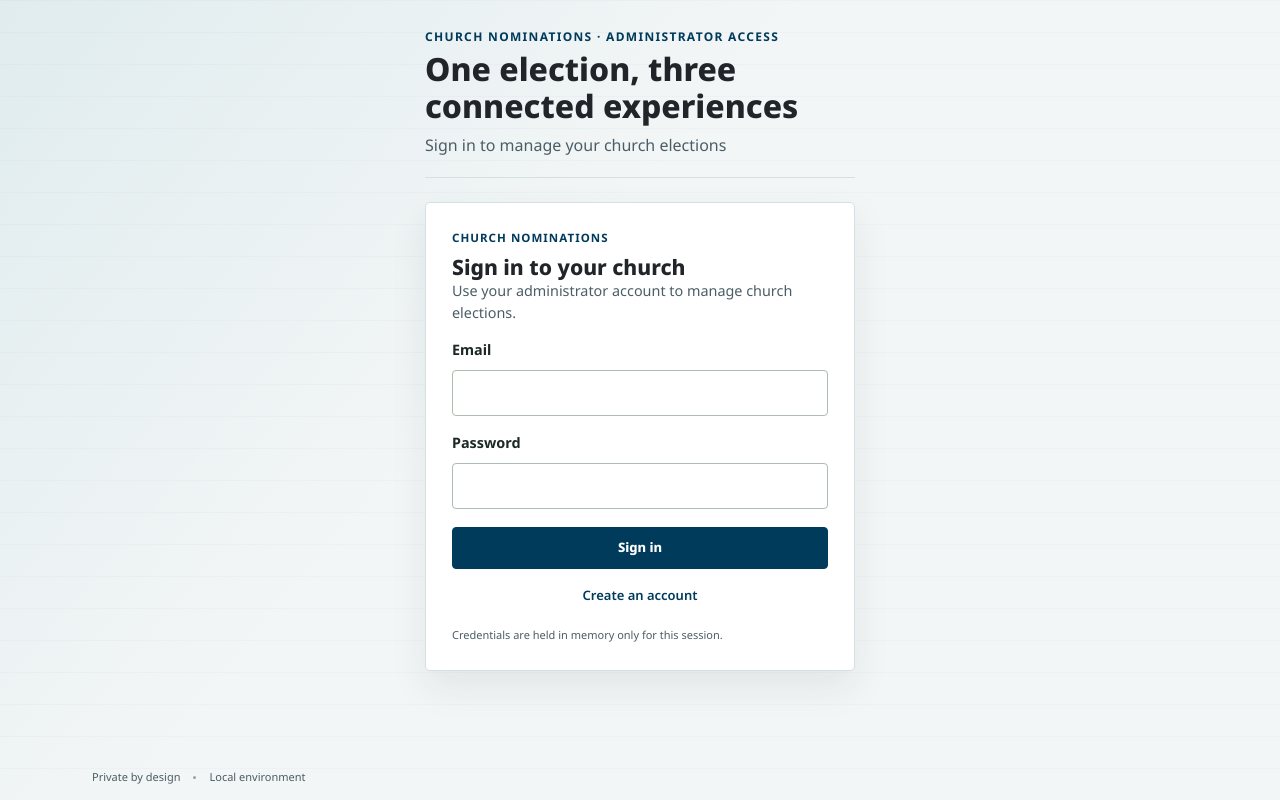
election administration › shows the guided position workflow with the current task before intake setup
Type "admin@example.com" into the field labelled "Email" at point(640, 393), box x1=452 y1=370 x2=828 y2=416
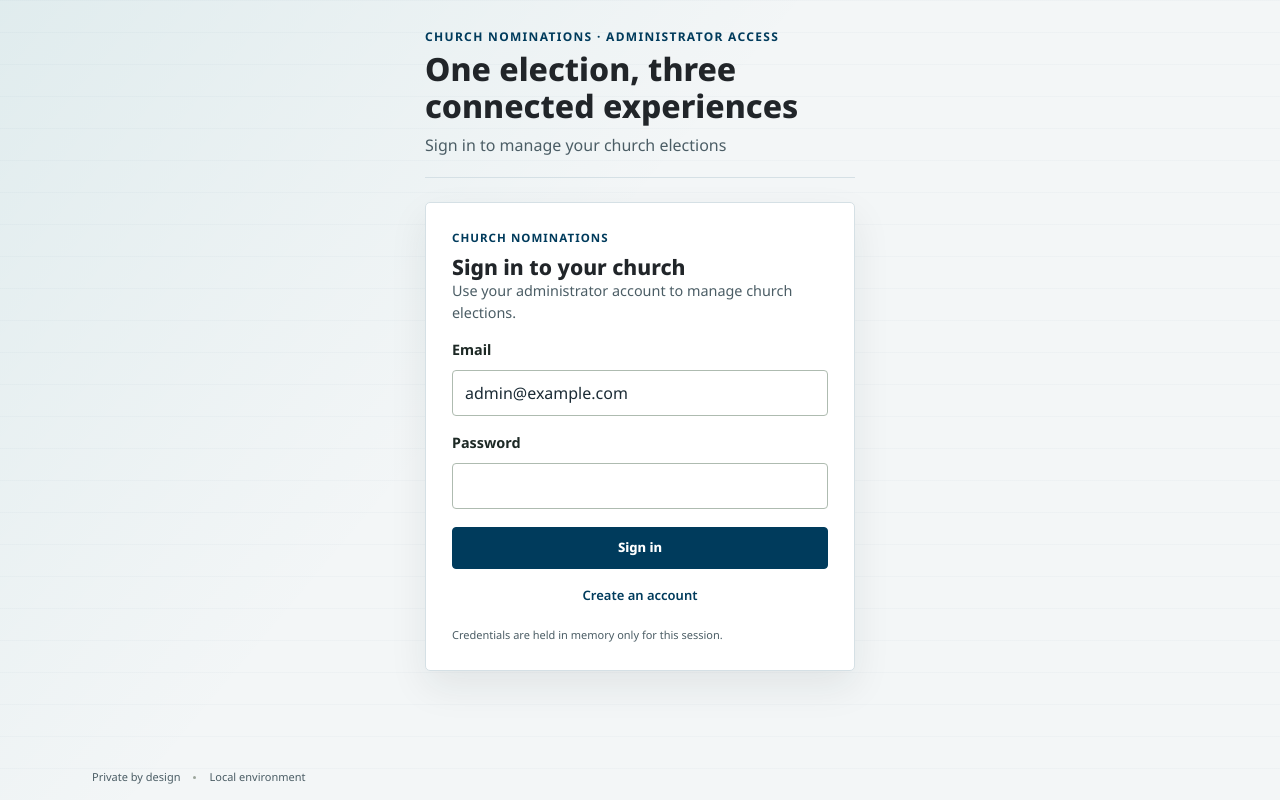
Type "secret" into the password field labelled "Password" at point(640, 486), box x1=452 y1=463 x2=828 y2=509
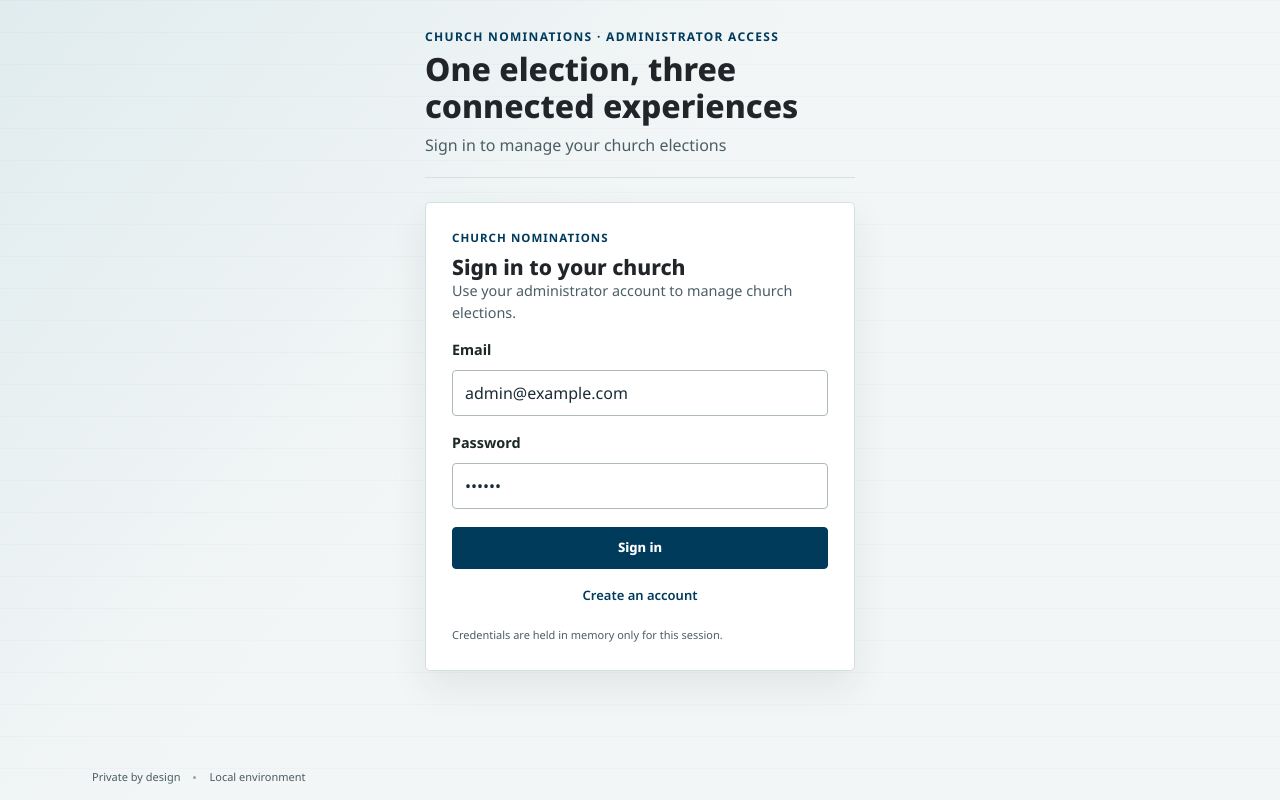
Click the button "Sign in" at point(640, 548), box x1=452 y1=527 x2=828 y2=569
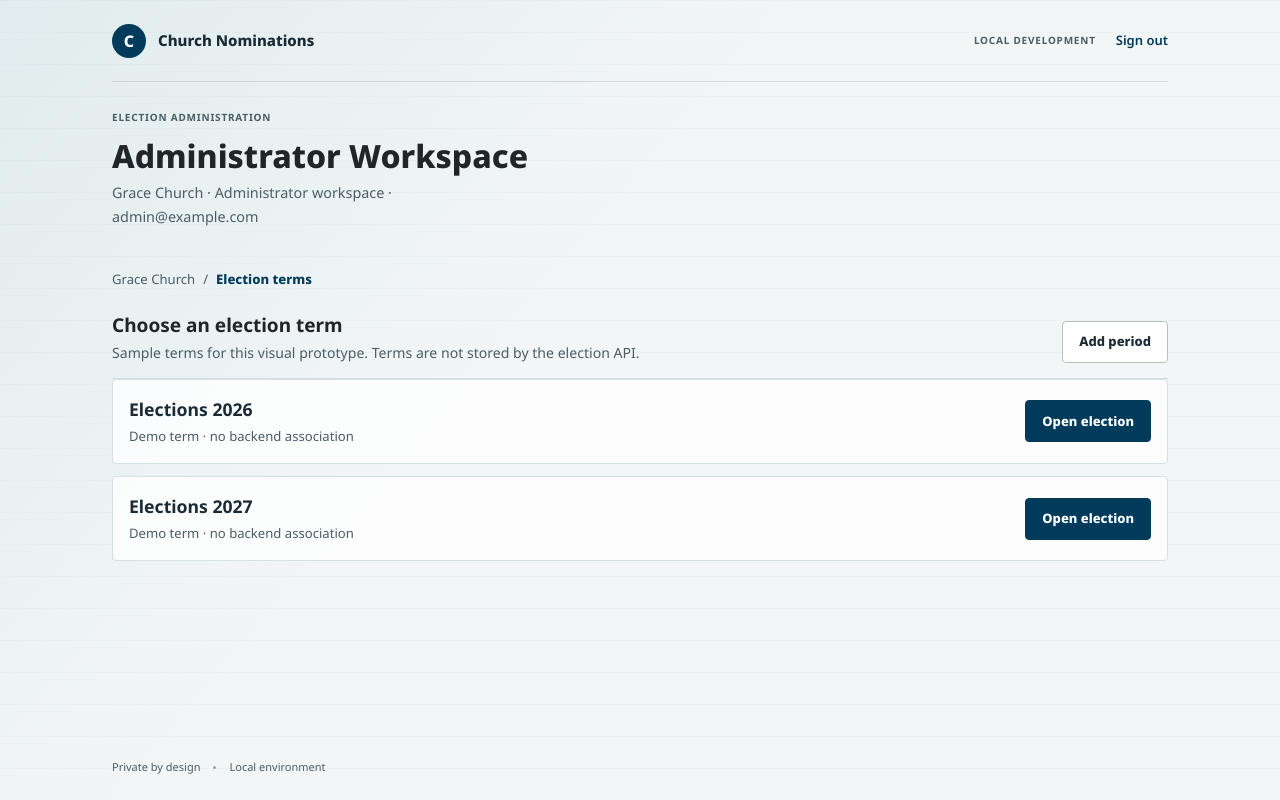
Click the button "Open election" in the row of "Elections 2026" at point(1088, 422), box x1=1025 y1=400 x2=1151 y2=442
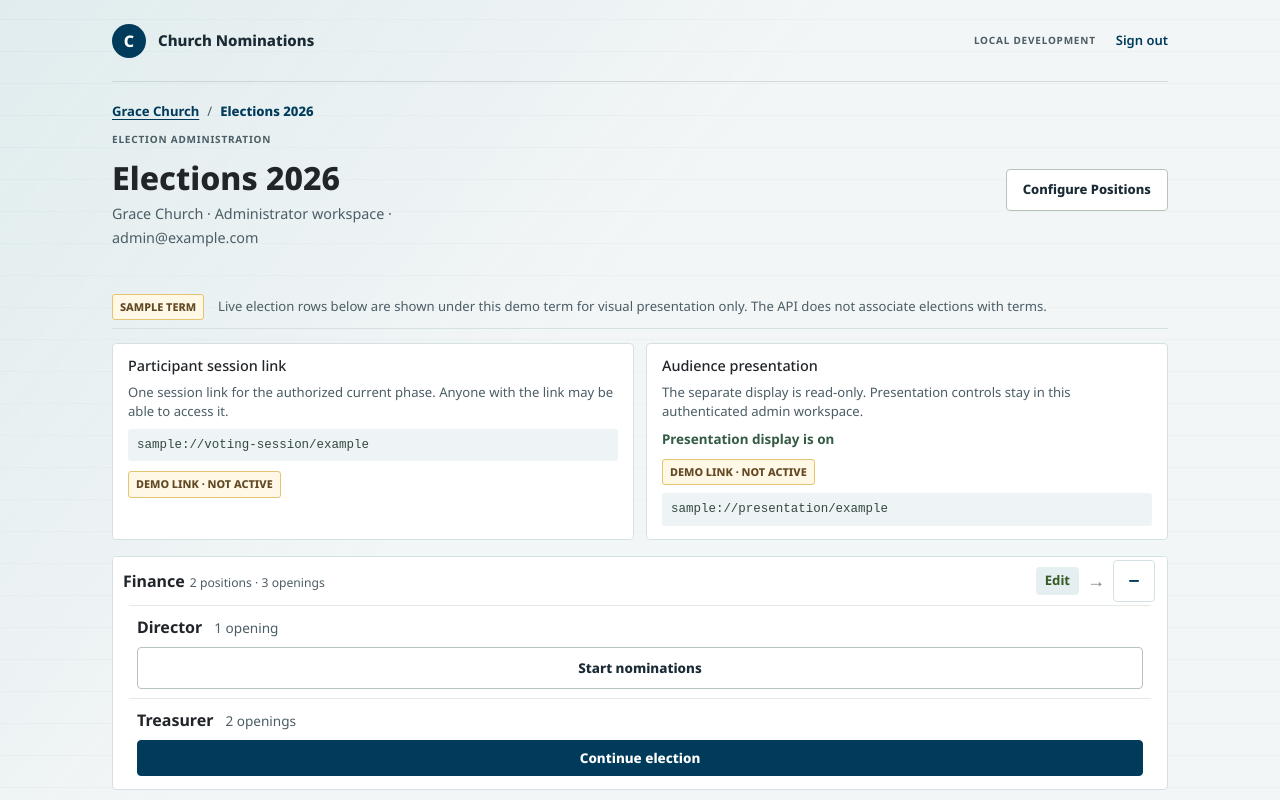
Click the button with aria-label "Start nominations: Director" at point(640, 668), box x1=137 y1=647 x2=1143 y2=689
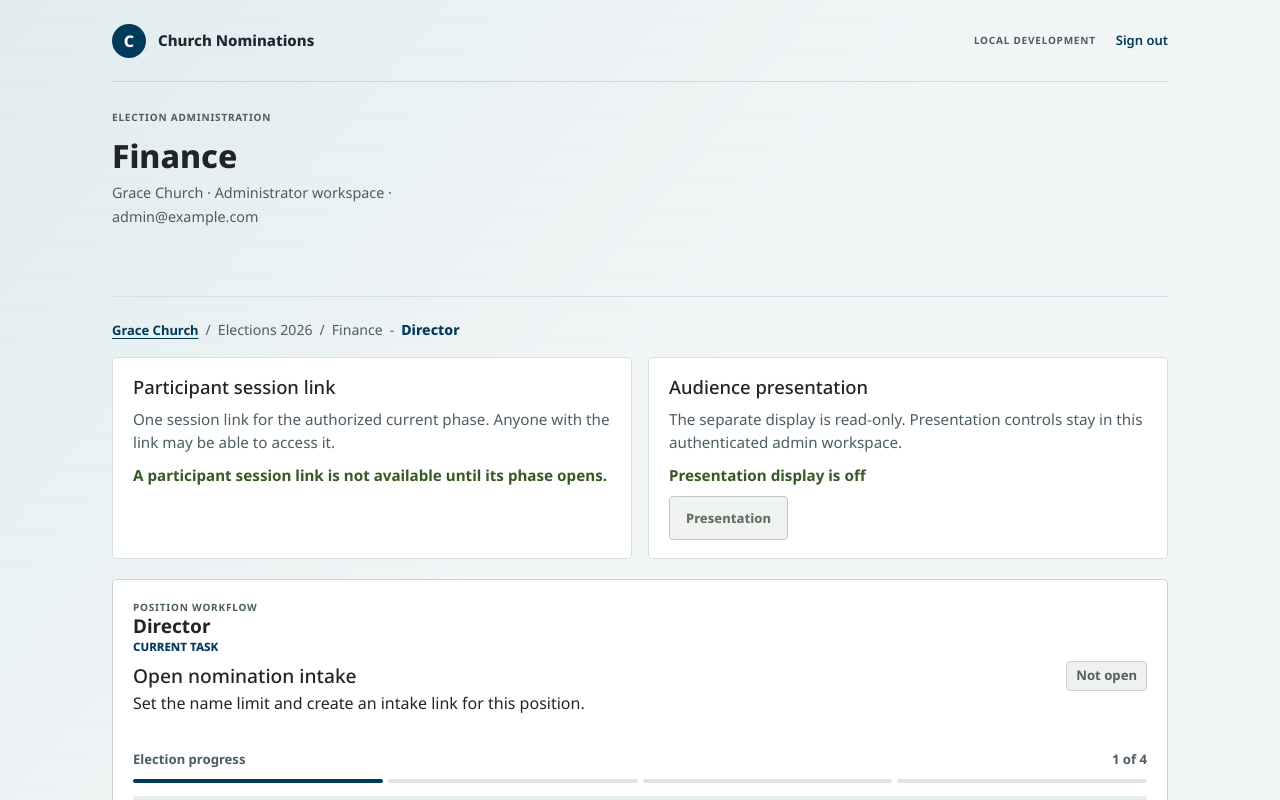
Expected: the heading "Director" is shown, x1=133 y1=613 x2=210 y2=639
Expected: the heading "Open nomination intake" is shown, x1=133 y1=664 x2=357 y2=689
Expected: the text "Position workflow" is shown, x1=133 y1=600 x2=258 y2=614
